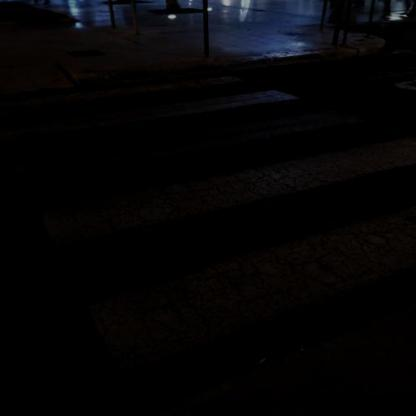crosswalk: (0, 86, 377, 185)
